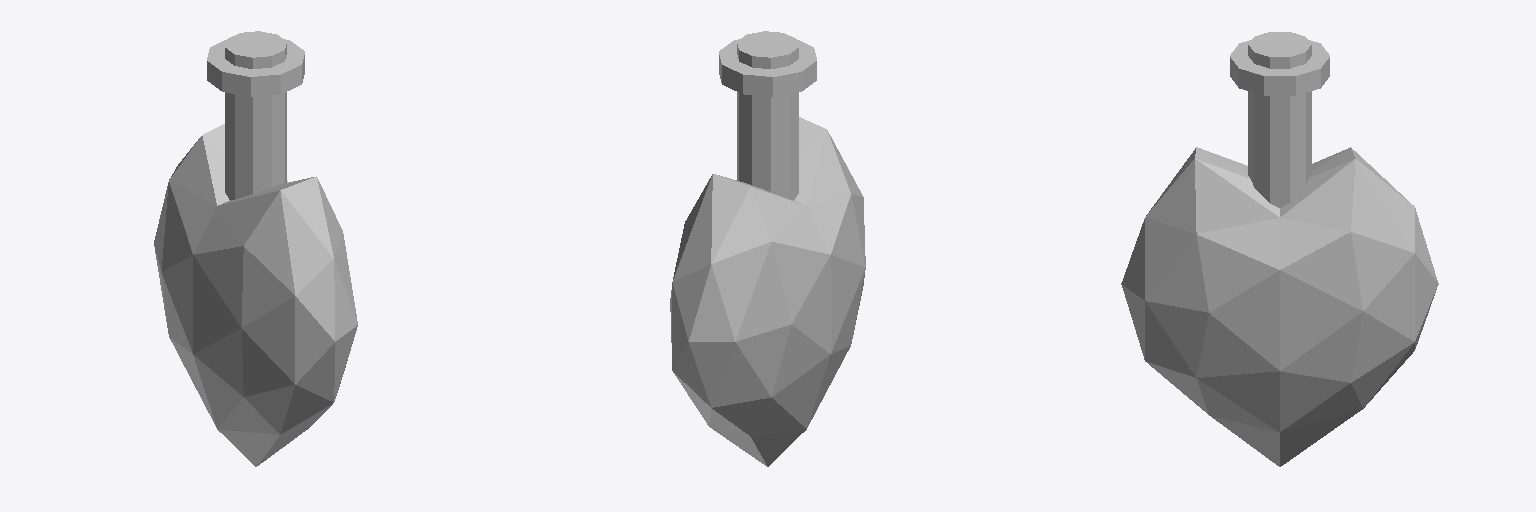
The model's file is health potion.obj.
3 views of the same model, side by side, from view 1: azimuth 30°, elevation 25°; view 2: azimuth 150°, elevation 25°; view 3: azimuth 270°, elevation 25° (orthographic).
Visible parts, largest first — view 1: Icosphere, Cylinder; view 2: Icosphere, Cylinder; view 3: Icosphere, Cylinder.
Part boxes in pixels (left/top/right/bottom): Icosphere: left=154, top=39, right=357, bottom=466; Cylinder: left=225, top=31, right=286, bottom=68; Icosphere: left=670, top=39, right=865, bottom=466; Cylinder: left=737, top=31, right=798, bottom=68; Icosphere: left=1121, top=40, right=1438, bottom=466; Cylinder: left=1248, top=32, right=1311, bottom=68.
Bounding box in the file's own units: 0.9136 × 2.94 × 2.